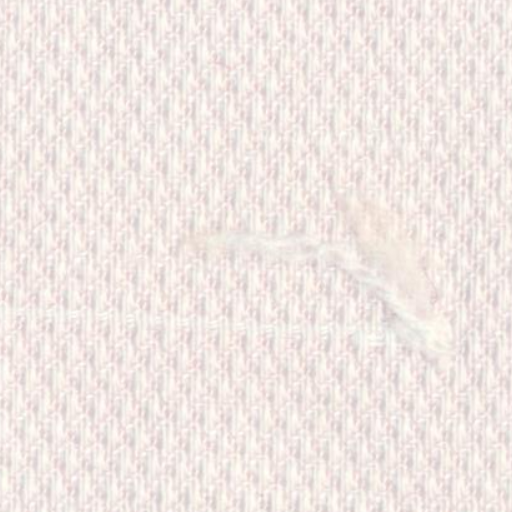DuanSha: (184, 212, 480, 370)
